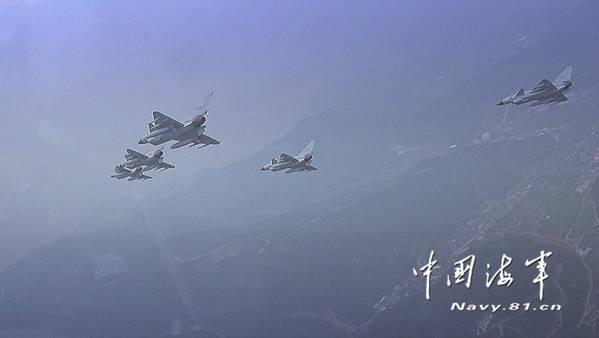airplane: (495, 62, 578, 109), (137, 107, 220, 150), (257, 138, 320, 174), (115, 146, 177, 172)
